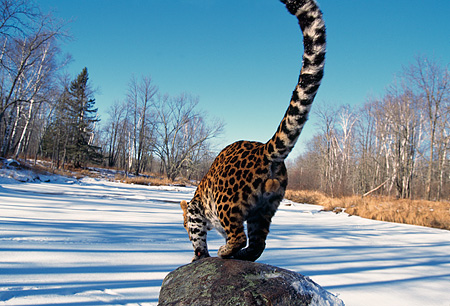leopard: (179, 1, 332, 268)
